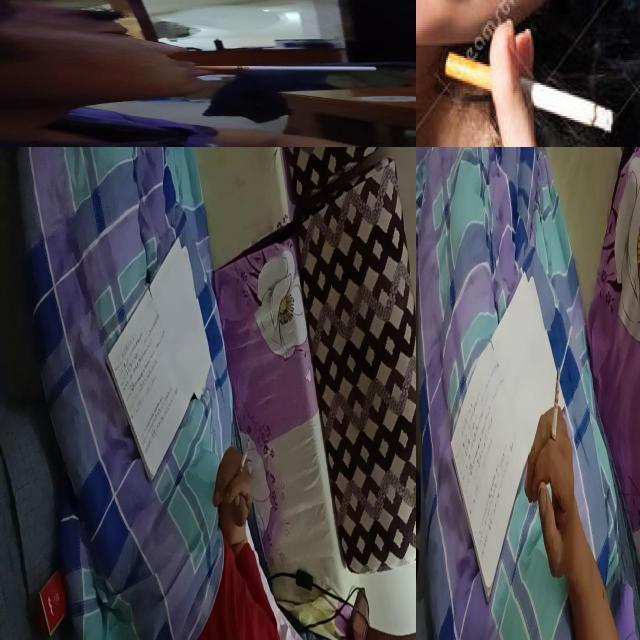smoking: (443, 50, 614, 134), (192, 65, 380, 71), (549, 368, 561, 458), (236, 438, 250, 480)
